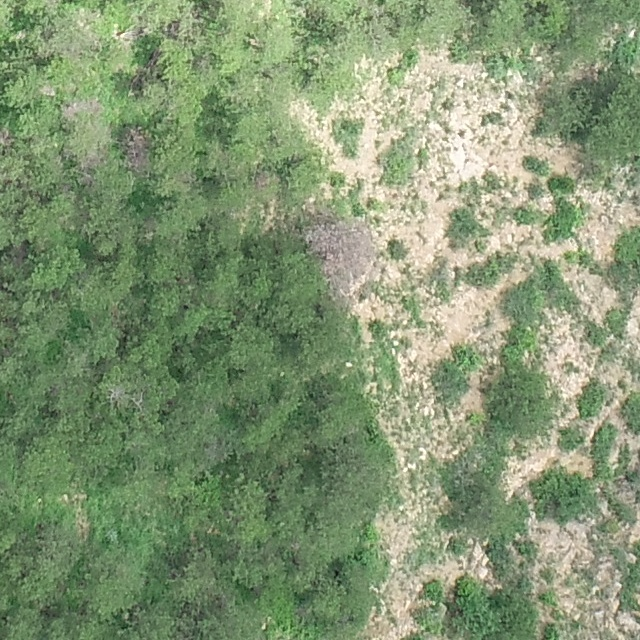unhealthy: (300, 217, 374, 291), (121, 126, 151, 173), (62, 96, 104, 119), (102, 382, 124, 404), (0, 124, 14, 151)
